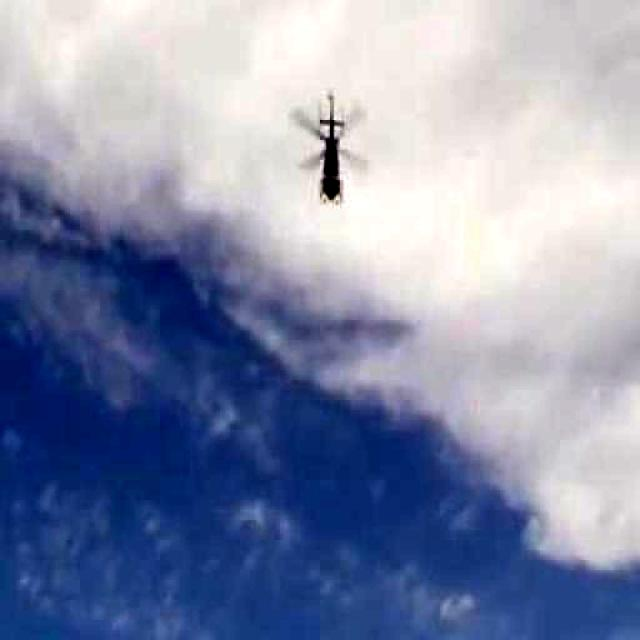drone: (265, 79, 391, 225)
